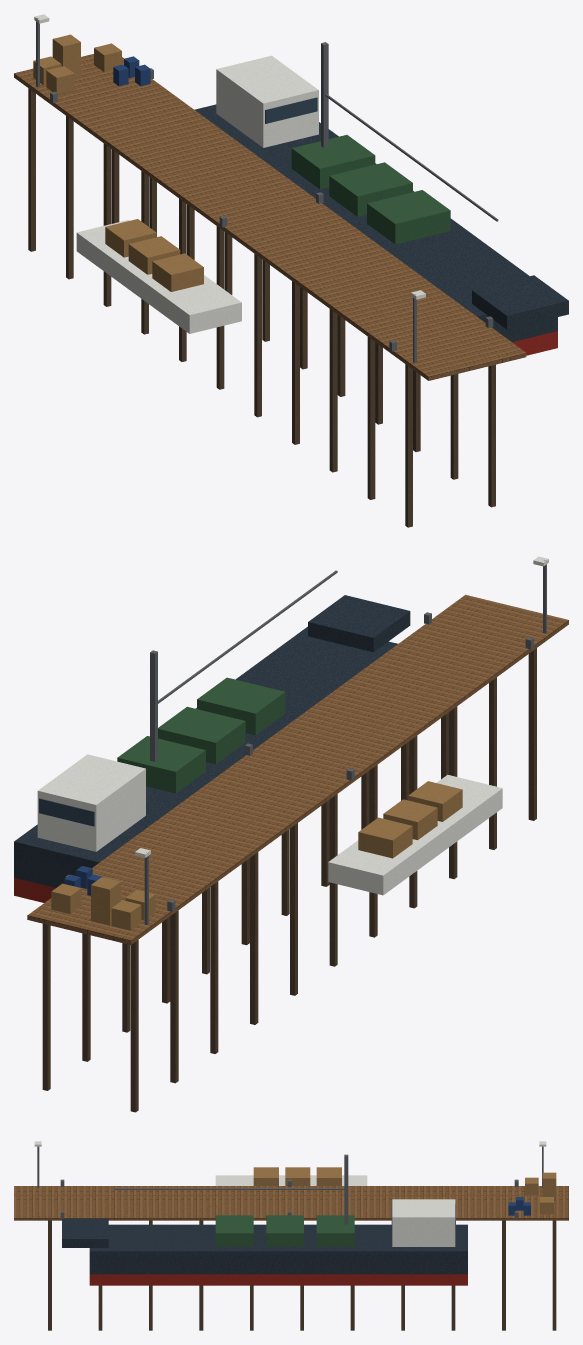
Rendered from smugglers_jetty.glb.
3 views of the same model, one above another, from view 1: azimuth 30°, elevation 25°; view 2: azimuth 150°, elevation 25°; view 3: azimuth 270°, elevation 25° (orthographic). The views are drawn at different scales.
Parts seen in each view (by area): view 1: smugglers_jetty; view 2: smugglers_jetty; view 3: smugglers_jetty.
Part boxes in pixels (x1,y1,x2,y2): smugglers_jetty: (14, 14, 568, 527); smugglers_jetty: (14, 556, 568, 1112); smugglers_jetty: (14, 1141, 568, 1330).
Bounding box in the file's own units: 16.8 × 16.8 × 44.
10 materials, 10 textured.
